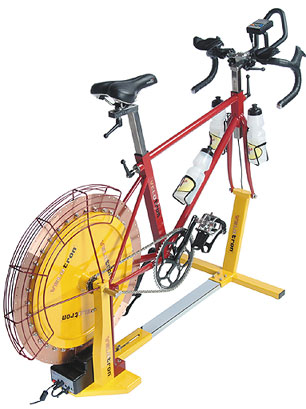gym_bike: (15, 7, 302, 398)
